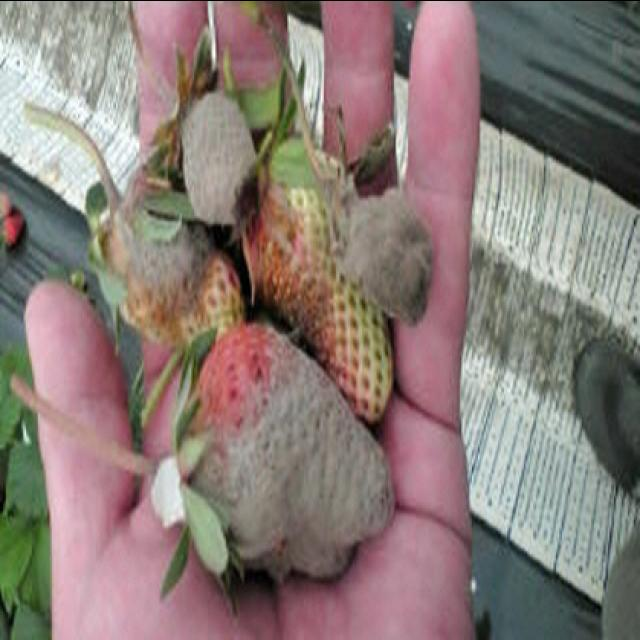Gray Mold: (184, 319, 398, 581), (240, 191, 349, 384), (110, 156, 224, 340), (336, 181, 437, 328), (178, 88, 256, 226)
